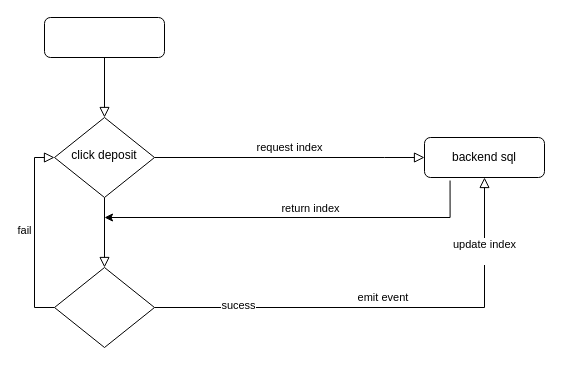
Image size: 562x365. Some labels were removed from this diagram. Each missing label, with the centre of its shape:
"send trans (index ,value)" goes at point (104, 307).
"user" goes at point (104, 37).
